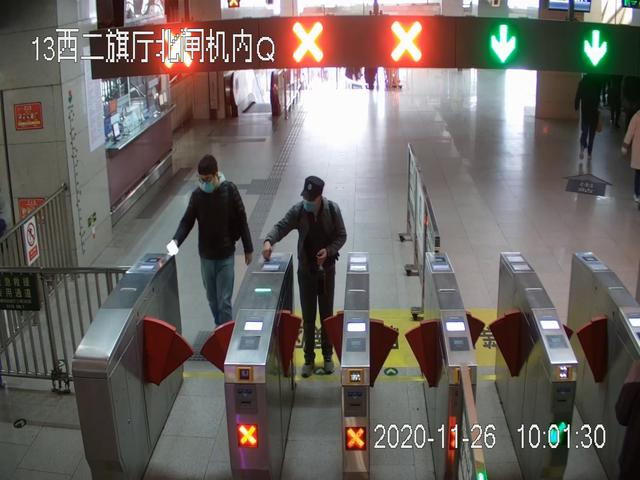person: (264, 176, 348, 378), (169, 156, 254, 337), (576, 74, 605, 163)
